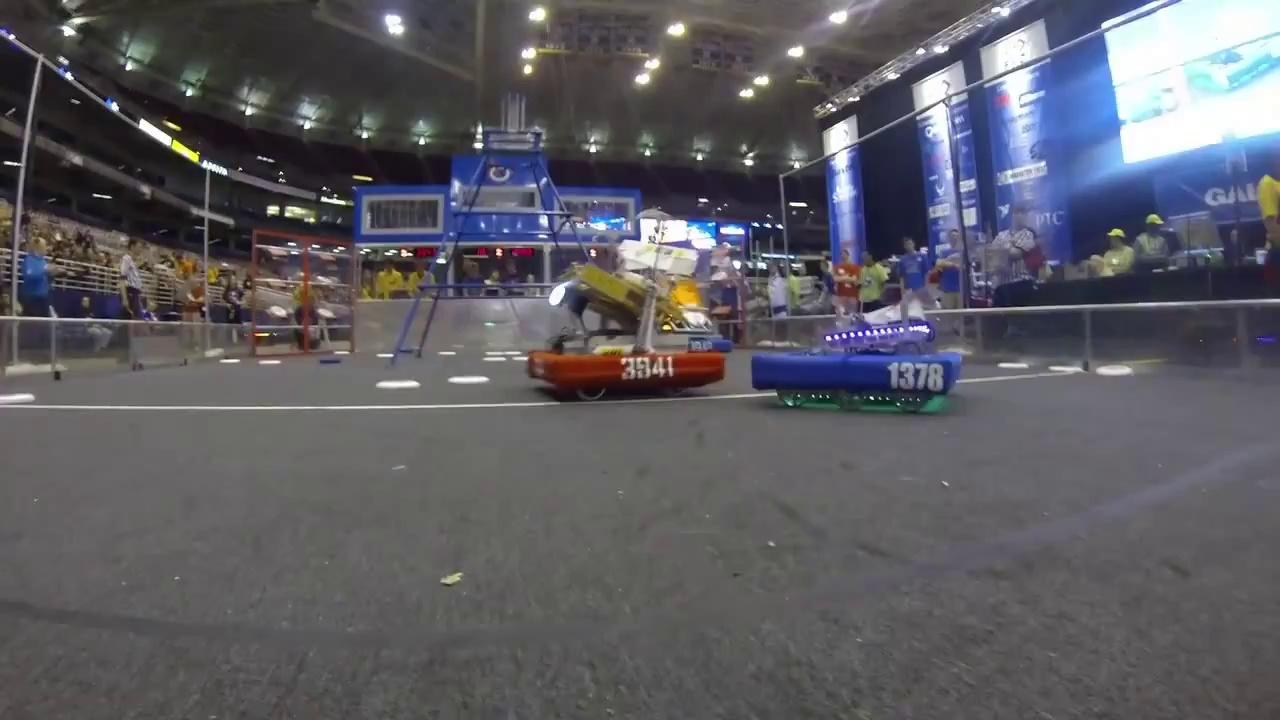robot: (522, 253, 730, 401), (748, 316, 965, 416), (654, 293, 733, 357)
